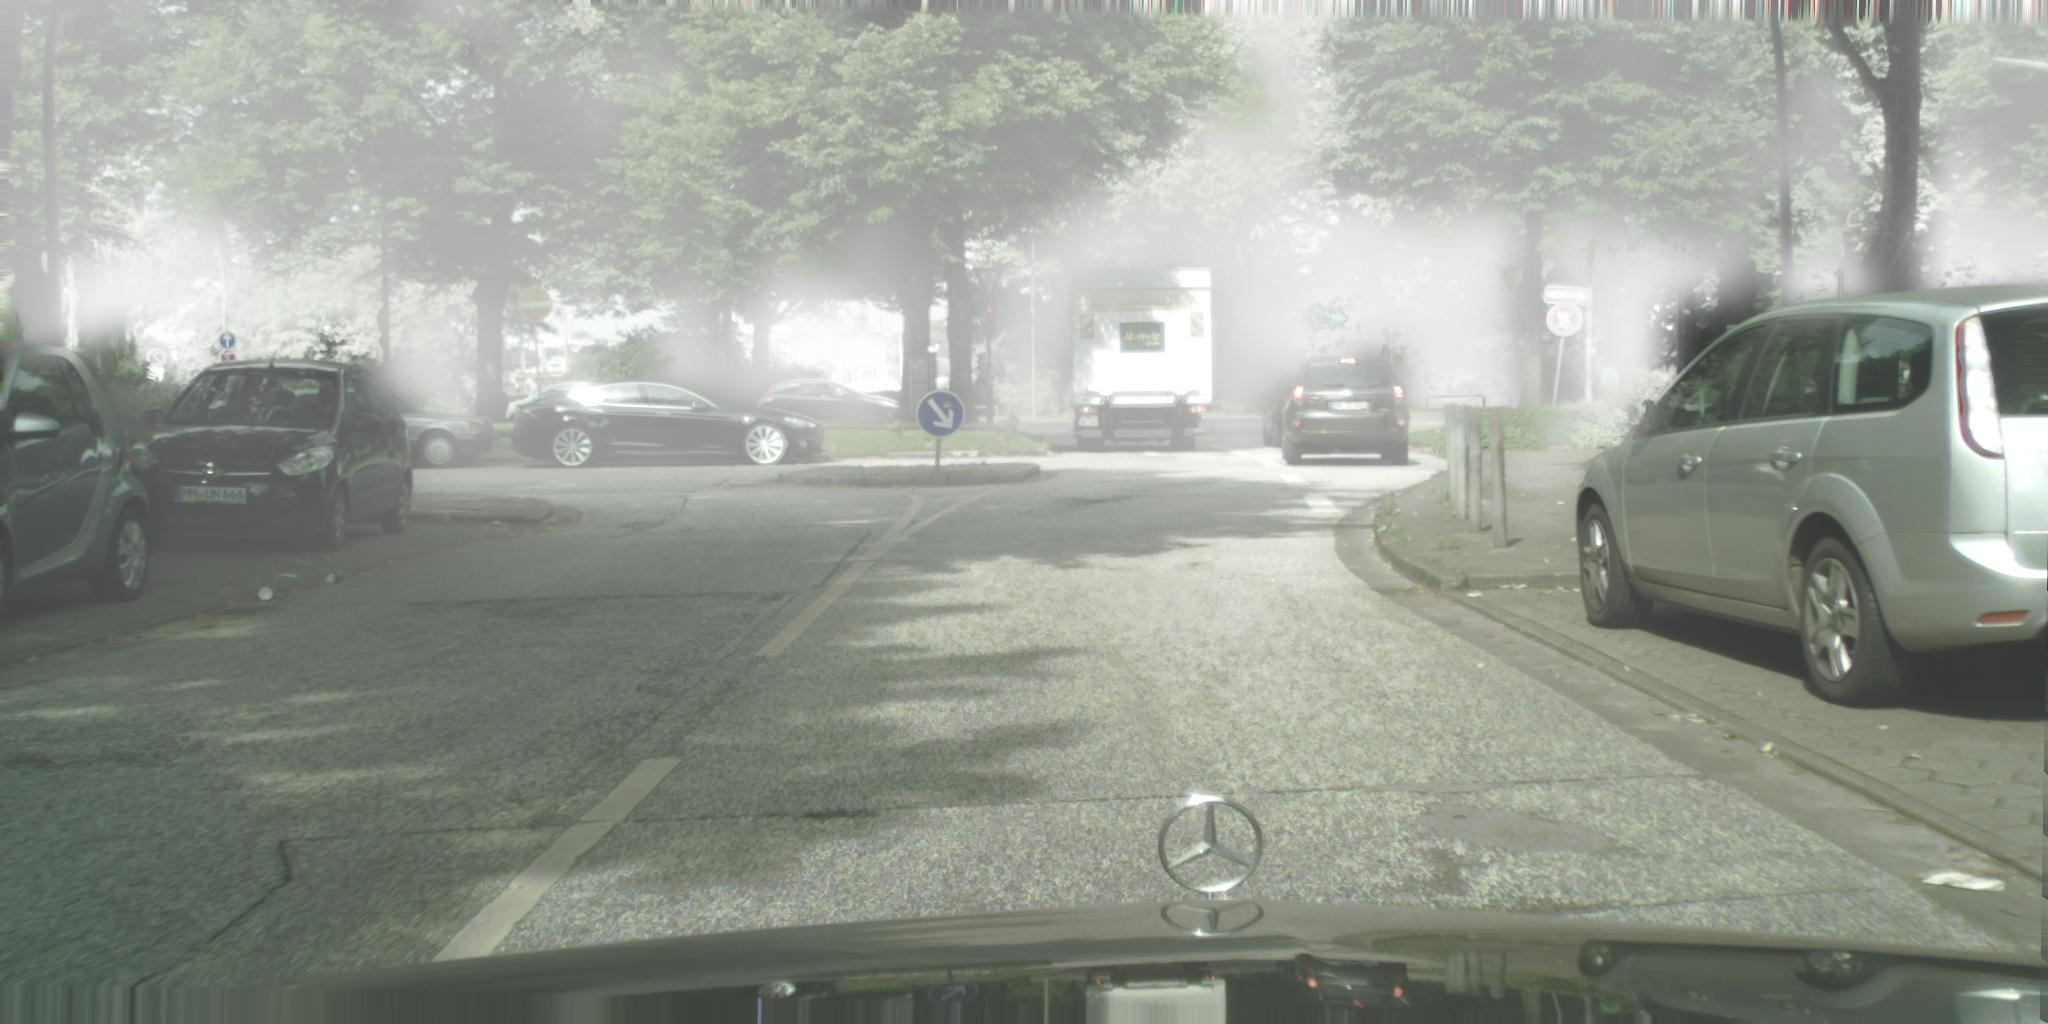car: (1574, 282, 2048, 709), (119, 359, 414, 554), (1, 340, 154, 606), (513, 379, 825, 468), (1280, 357, 1411, 466), (376, 392, 502, 469), (756, 380, 901, 421), (504, 381, 605, 424), (1262, 375, 1319, 449)
truck: (1061, 268, 1215, 453)
